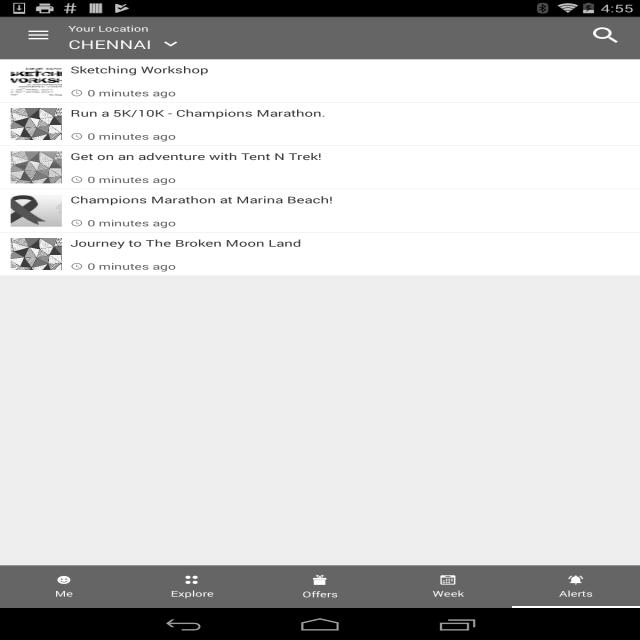ImageButton: (9, 14, 68, 57)
ImageView: (11, 194, 62, 227), (11, 108, 62, 140), (11, 152, 62, 184), (11, 238, 62, 270), (11, 65, 62, 96)
TextView: (70, 63, 630, 87), (70, 150, 630, 174), (70, 193, 630, 217), (70, 107, 630, 130), (70, 237, 630, 260), (69, 19, 580, 34), (70, 173, 630, 186), (70, 87, 630, 99), (70, 130, 630, 142), (70, 217, 630, 229), (70, 260, 630, 272), (68, 34, 184, 57), (269, 574, 371, 600), (13, 574, 115, 599), (141, 574, 243, 599), (397, 574, 499, 599), (525, 574, 627, 599), (580, 19, 632, 52)
